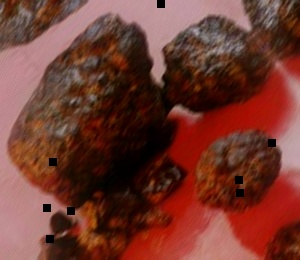halobolite: (11, 10, 185, 200), (169, 19, 265, 112), (195, 134, 283, 205), (239, 1, 300, 60), (139, 155, 196, 217), (98, 189, 176, 232), (40, 212, 100, 260), (253, 217, 300, 260)
